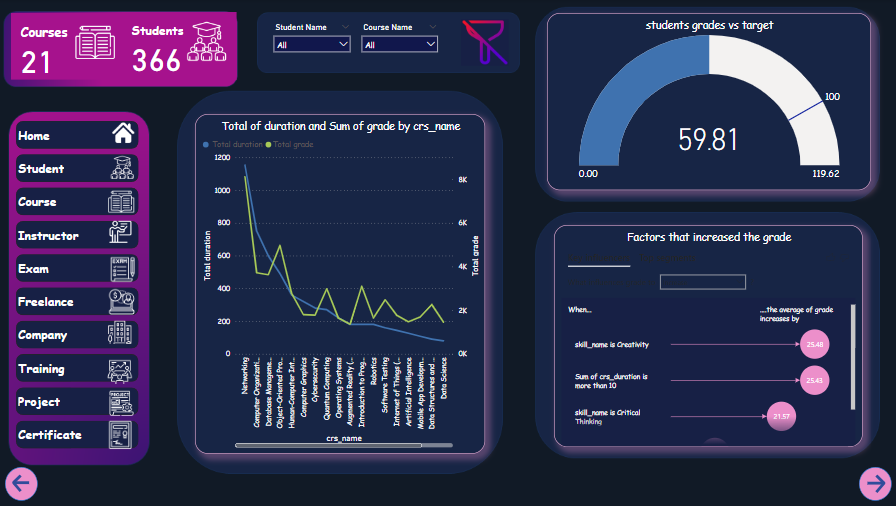

The page's visual inventory and layout, read from the dashboard file:
{"tool":"powerbi","page":{"name":"course4","canvas":[1600,900],"ordinal":8},"visuals":[{"type":"keyDriversVisual","title":"Factors that increased the grade","fields":{"Target":["Fact_table.grade"],"ExplainBy":["Sum(Fact_table.crs_duration)","Dim_Student.skill_name","Dim_Student.gender"]},"box":[990.4,400.4,547.4,393.3],"z":0},{"type":"gauge","title":"students grades vs target","fields":{"Y":["Avg(Fact_table.grade)"],"TargetValue":["Fact_table.Measure"]},"box":[978,24.8,574,313.6],"z":1000},{"type":"lineChart","title":"Total of duration and Sum of grade by crs_name","fields":{"Category":["Fact_table.crs_name"],"Y":["Sum(Fact_table.crs_duration)"],"Y2":["Sum(Fact_table.grade)"]},"box":[354.3,203.7,513.8,602.4],"z":2000},{"type":"slicer","fields":{"Values":["Fact_table.crs_name"]},"box":[639.7,37.2,154.7,71.4],"z":3000},{"type":"slicer","fields":{"Values":["Dim_Student.st_fname"]},"box":[483.5,37.2,156.2,71.4],"z":4000},{"type":"cardVisual","fields":{"Data":["Count(Dim_Student.st_id_sk)"]},"box":[224.6,23.5,202.9,119.5],"z":5000},{"type":"actionButton","box":[825.6,35.4,85,83.3],"z":6000},{"type":"pageNavigator","box":[37.2,216.1,217.9,590],"z":7000},{"type":"image","box":[188.4,211.9,79.7,48.9],"z":8000},{"type":"image","box":[186.6,273.5,79.7,50.7],"z":9000},{"type":"image","box":[188.4,387.6,68.8,48.9],"z":10000},{"type":"image","box":[193.8,447.4,65.2,61.6],"z":11000},{"type":"image","box":[181.1,331.5,85.1,56.2],"z":12000},{"type":"image","box":[190.2,509,70.6,56.2],"z":13000},{"type":"image","box":[190.2,565.1,63.4,50.7],"z":14000},{"type":"image","box":[186.6,634,70.6,54.3],"z":15000},{"type":"image","box":[172.1,742.6,99.6,59.8],"z":16000},{"type":"image","box":[184.8,688.3,79.7,54.3],"z":17000},{"type":"group","id":"g1","title":"Group 1","box":[1530.6,829.6,58,59.8],"z":18000},{"type":"cardVisual","fields":{"Data":["Count(Fact_table.crs_id_bk)"]},"box":[29,25.4,201.1,117.7],"z":19000},{"type":"shape","box":[1530.6,829.6,58,59.8],"z":19000,"group":"g1"},{"type":"group","id":"g2","title":"Group 2","box":[18.1,829.6,61.6,59.8],"z":20000},{"type":"actionButton","box":[1539.7,838.7,48.9,41.7],"z":20000,"group":"g1"},{"type":"shape","box":[18.1,829.6,58,59.8],"z":20500,"group":"g2"},{"type":"actionButton","box":[27.2,838.7,52.5,39.8],"z":21000,"group":"g2"}]}

Visuals, with their boxes in screenshot pixels (x1, y1, x2, y2), scaled from the page's 1600x900 canvas onto the 896x506 screenshot:
"Factors that increased the grade" keyDriversVisual: left=555, top=225, right=861, bottom=446
"students grades vs target" gauge: left=548, top=14, right=869, bottom=190
"Total of duration and Sum of grade by crs_name" lineChart: left=198, top=115, right=486, bottom=453
slicer - Fact_table.crs_name: left=358, top=21, right=445, bottom=61
slicer - Dim_Student.st_fname: left=271, top=21, right=358, bottom=61
cardVisual - Count(Dim_Student.st_id_sk): left=126, top=13, right=239, bottom=80
actionButton: left=462, top=20, right=510, bottom=67
pageNavigator: left=21, top=121, right=143, bottom=453
image: left=106, top=119, right=150, bottom=147
image: left=104, top=154, right=149, bottom=182
image: left=106, top=218, right=144, bottom=245
image: left=109, top=252, right=145, bottom=286
image: left=101, top=186, right=149, bottom=218
image: left=107, top=286, right=146, bottom=318
image: left=107, top=318, right=142, bottom=346
image: left=104, top=356, right=144, bottom=387
image: left=96, top=418, right=152, bottom=451
image: left=103, top=387, right=148, bottom=418
"Group 1" group: left=857, top=466, right=890, bottom=500
cardVisual - Count(Fact_table.crs_id_bk): left=16, top=14, right=129, bottom=80
shape: left=857, top=466, right=890, bottom=500
"Group 2" group: left=10, top=466, right=45, bottom=500
actionButton: left=862, top=472, right=890, bottom=495
shape: left=10, top=466, right=43, bottom=500
actionButton: left=15, top=472, right=45, bottom=494
